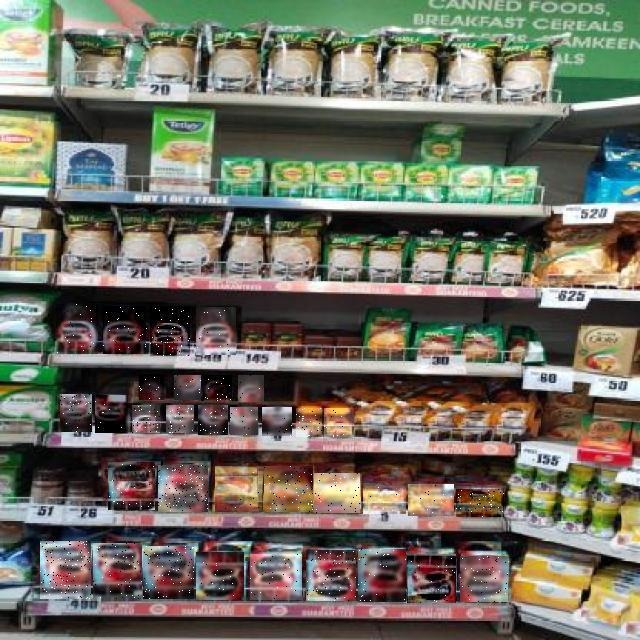Coffee: (40, 541, 91, 599), (93, 544, 142, 600), (143, 546, 194, 599), (306, 550, 356, 601), (359, 549, 407, 602), (407, 554, 456, 603), (250, 554, 302, 600), (158, 465, 208, 512), (196, 552, 244, 600), (108, 462, 155, 510), (264, 466, 313, 512), (460, 556, 508, 602), (216, 466, 262, 512), (104, 306, 148, 354), (56, 304, 98, 354), (150, 306, 190, 356), (196, 307, 236, 355), (314, 473, 360, 513), (408, 484, 454, 516), (456, 489, 504, 517), (96, 395, 130, 433), (60, 394, 92, 432), (363, 486, 406, 514), (198, 405, 228, 435), (262, 408, 292, 438), (324, 408, 354, 437), (132, 405, 160, 433), (166, 405, 194, 433), (230, 407, 258, 435), (296, 408, 322, 437), (205, 376, 233, 402), (238, 375, 264, 402), (140, 374, 166, 400), (174, 375, 201, 400)
